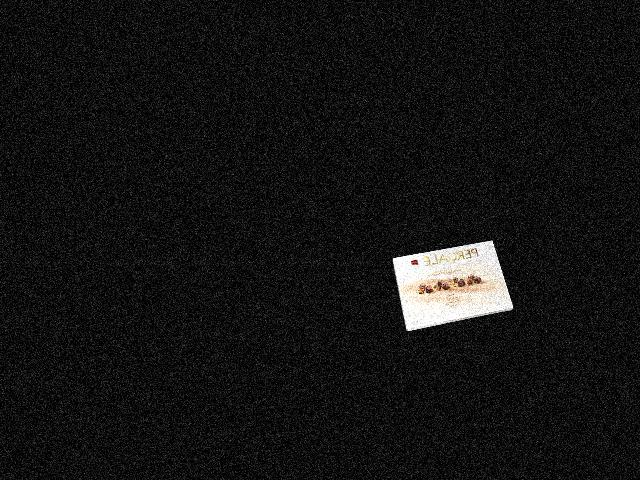chocolate: (397, 241, 507, 335)
